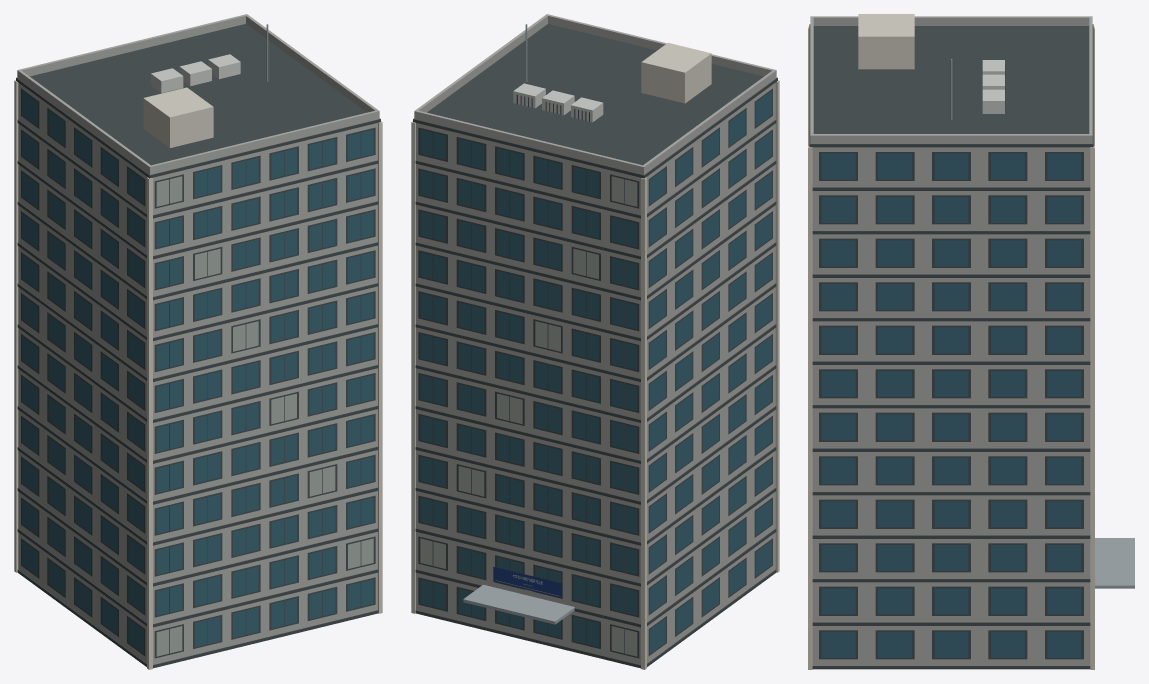
Rendered from office_tower.glb.
3 views of the same model, side by side, from view 1: azimuth 30°, elevation 25°; view 2: azimuth 150°, elevation 25°; view 3: azimuth 270°, elevation 25° (orthographic). The views are drawn at different scales.
Parts seen in each view (by area): view 1: office_tower; view 2: office_tower; view 3: office_tower.
Part boxes in pixels (x1=…): office_tower: x1=14, y1=14, x2=382, y2=669; office_tower: x1=411, y1=14, x2=779, y2=669; office_tower: x1=808, y1=14, x2=1134, y2=669.
Size of the model in its own units: 20.33 by 45.8 by 23.16.
Materials: 8 (1 with a texture image).
